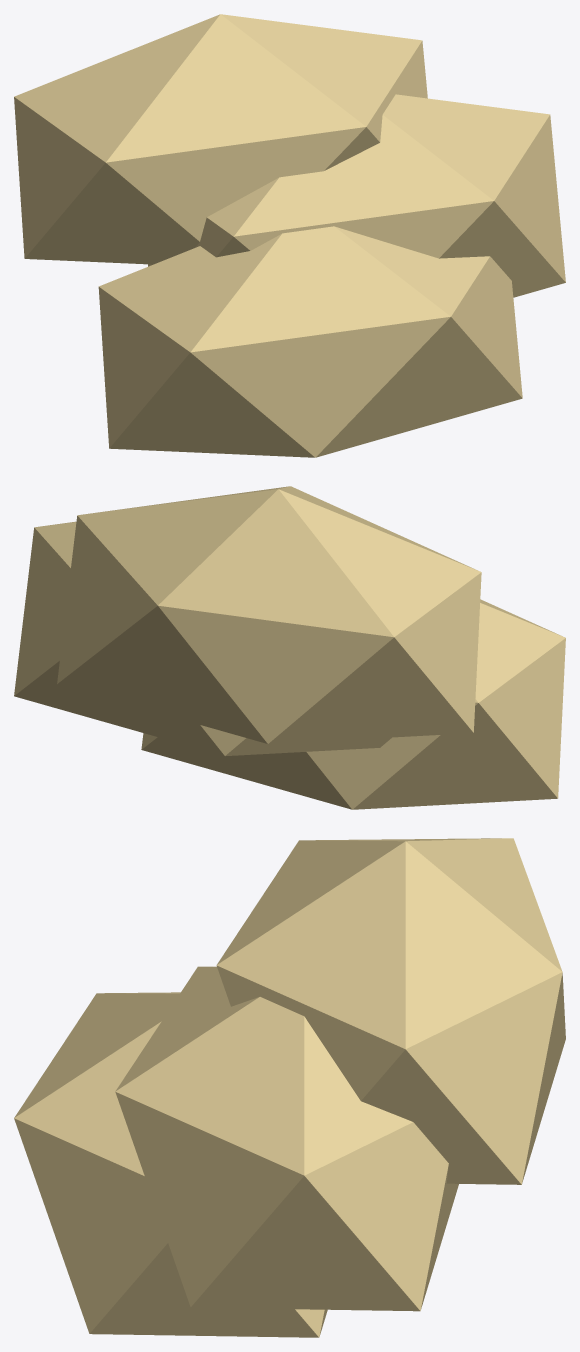
File: item_089_beeswax_m.glb
3 renders of one model, top to bottom at view 1: azimuth 30°, elevation 25°; view 2: azimuth 150°, elevation 25°; view 3: azimuth 270°, elevation 25°, orthographic. The views are drawn at different scales.
Visible parts, largest first — view 1: item_089_beeswax_m; view 2: item_089_beeswax_m; view 3: item_089_beeswax_m.
Part boxes in pixels (left/top/right/bottom): item_089_beeswax_m: left=14, top=14, right=565, bottom=457; item_089_beeswax_m: left=14, top=486, right=565, bottom=809; item_089_beeswax_m: left=14, top=838, right=565, bottom=1337.
Size of the model in its own units: 0.3957 by 0.2972 by 0.3272.
